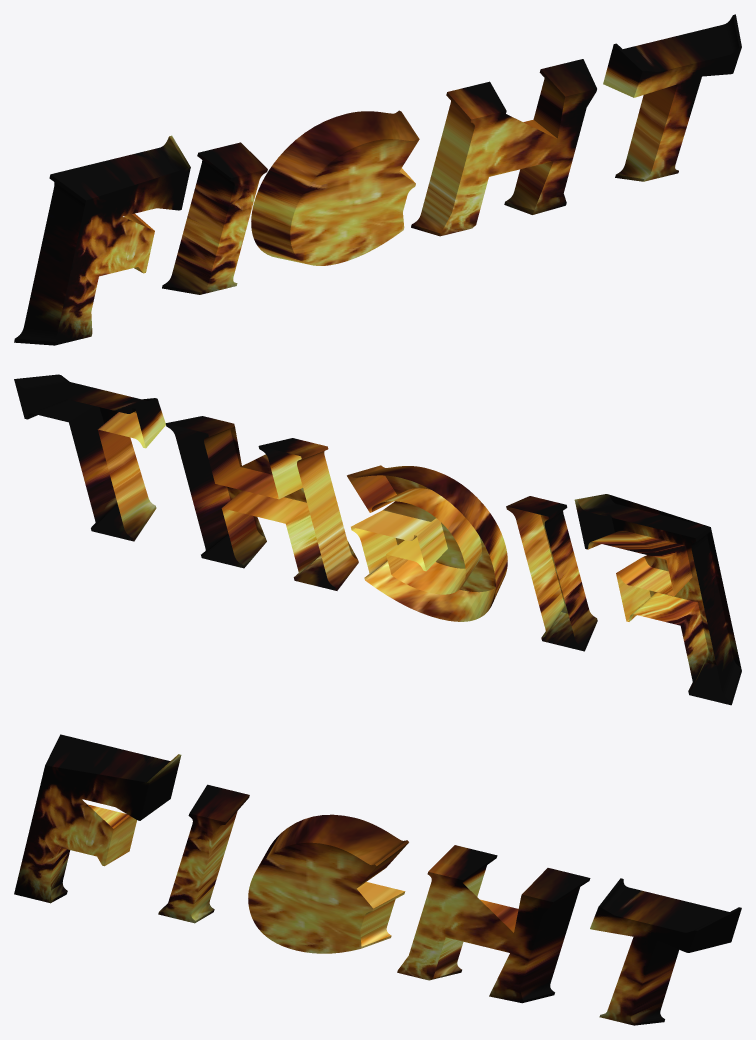
The model's file is fight01.FBX.
3 views of the same model, one above another, from view 1: azimuth 30°, elevation 25°; view 2: azimuth 150°, elevation 25°; view 3: azimuth 330°, elevation 25° (orthographic).
Visible parts, largest first — view 1: fight; view 2: fight; view 3: fight.
Part boxes in pixels (x1,y1,x2,y2): fight: (14,14,741,345); fight: (14,374,741,705); fight: (14,734,741,1025).
Bounding box in the file's own units: 74.78 × 16.68 × 4.58.
